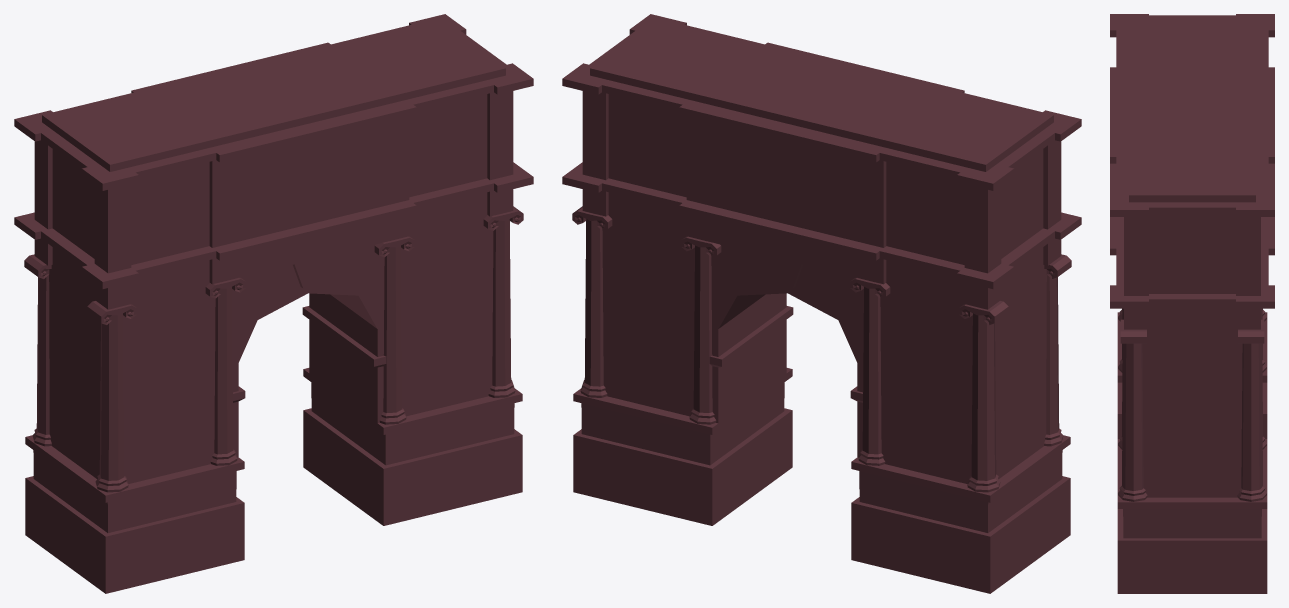
Rendered from SM_Triumph_Arc_Empire.fbx.
The picture shows the model from 3 angles, left to right: view 1: azimuth 30°, elevation 25°; view 2: azimuth 150°, elevation 25°; view 3: azimuth 270°, elevation 25°; orthographic projection. The views are drawn at different scales.
Parts seen in each view (by area): view 1: SM_Triumph_Arc_Empire; view 2: SM_Triumph_Arc_Empire; view 3: SM_Triumph_Arc_Empire.
Part boxes in pixels (x1,y1,x2,y2): SM_Triumph_Arc_Empire: (14, 14, 533, 593); SM_Triumph_Arc_Empire: (562, 14, 1081, 593); SM_Triumph_Arc_Empire: (1110, 14, 1274, 593).
Bounding box in the file's own units: 12.4 × 11.61 × 4.4.
